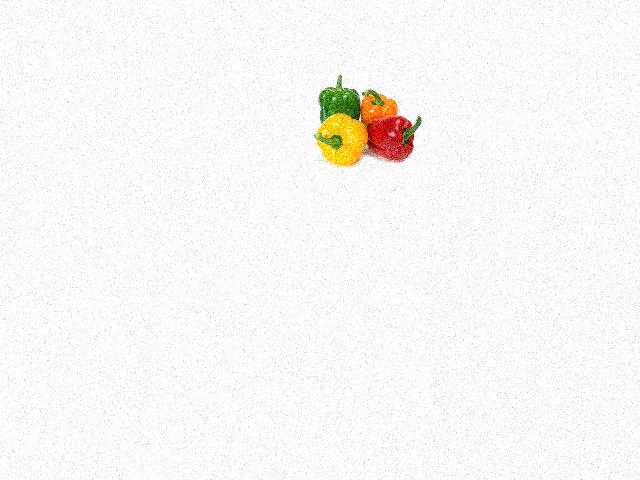bell_pepper: (311, 113, 369, 167)
